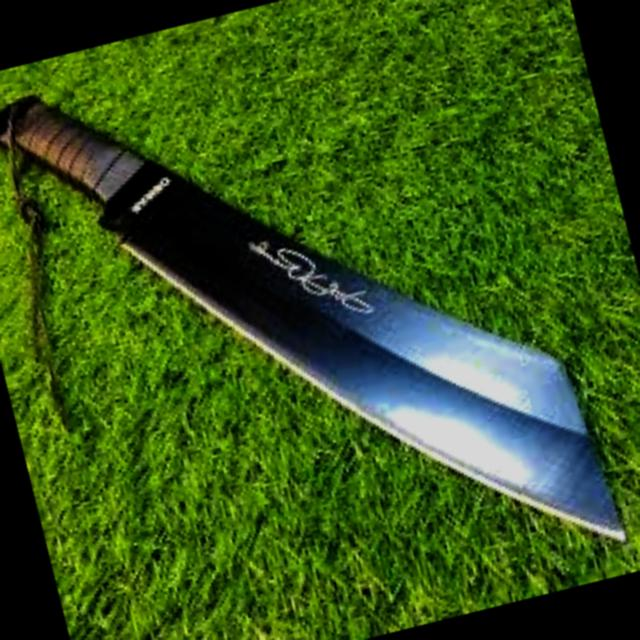eto: (0, 90, 637, 550)
